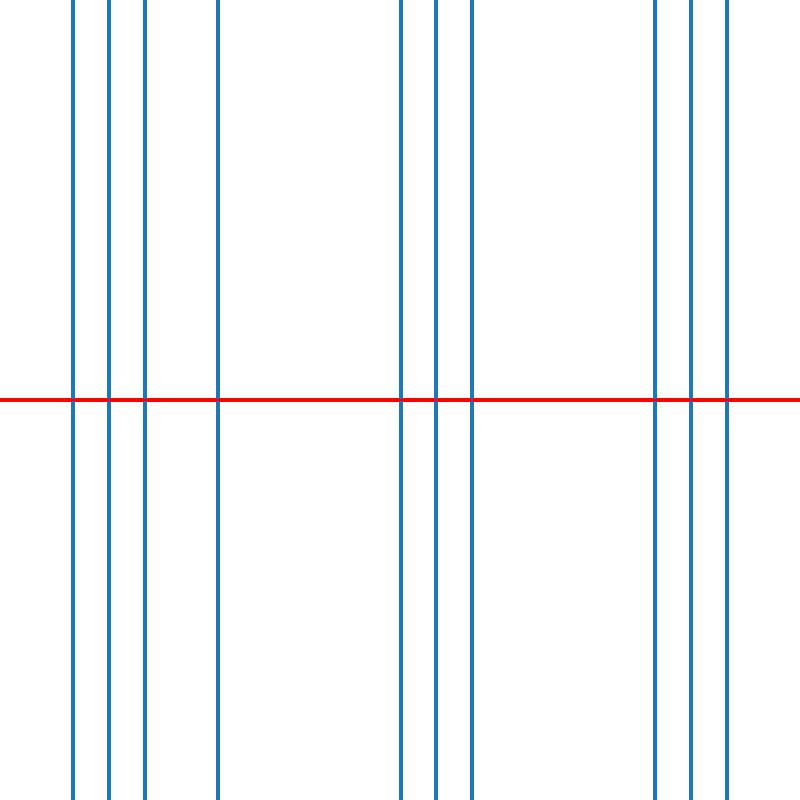root: (650, 396, 658, 404), (432, 396, 440, 404), (141, 396, 149, 404), (687, 396, 694, 404), (105, 396, 112, 404), (396, 396, 403, 404), (469, 396, 476, 404), (723, 396, 730, 404), (214, 396, 221, 404), (69, 396, 76, 404)
